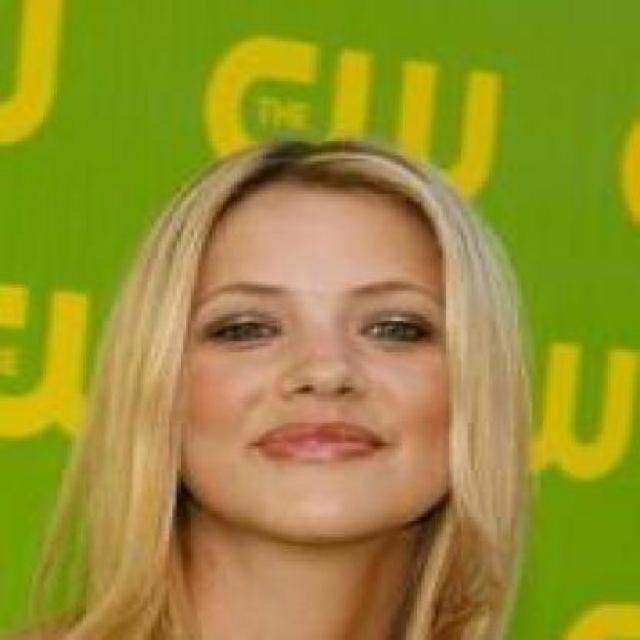closed-mouth: (254, 418, 388, 468)
